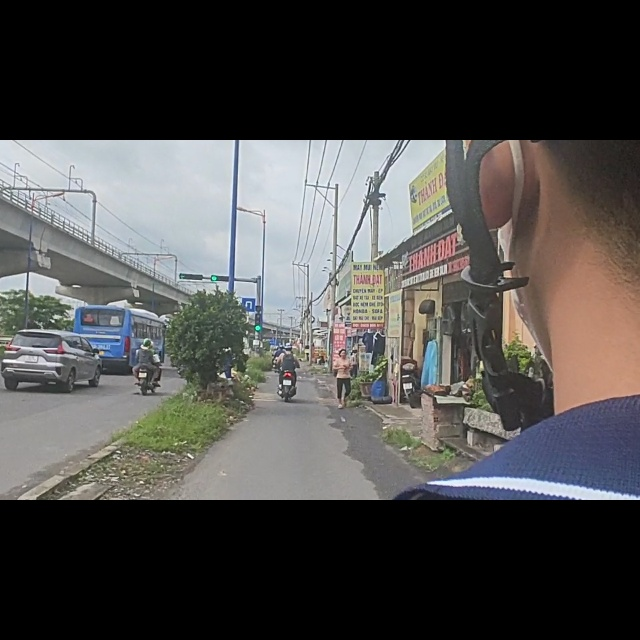bien_chi_dan: (243, 279, 256, 305)
